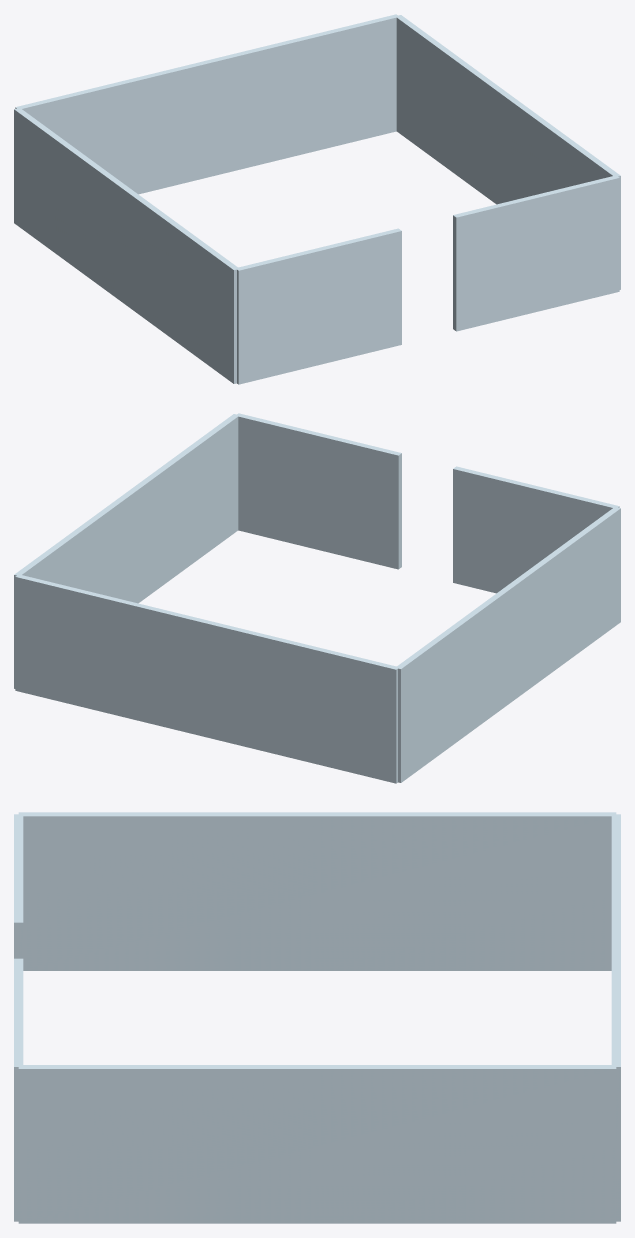
File: glass.glb
3 renders of one model, top to bottom at view 1: azimuth 30°, elevation 25°; view 2: azimuth 150°, elevation 25°; view 3: azimuth 270°, elevation 25°, orthographic. The views are drawn at different scales.
Parts seen in each view (by area): view 1: glass; view 2: glass; view 3: glass.
Part boxes in pixels (left/top/right/bottom): glass: left=14, top=14, right=620, bottom=384; glass: left=14, top=413, right=620, bottom=783; glass: left=14, top=812, right=620, bottom=1223.
Size of the model in its own units: 14.22 by 4 by 14.22.
1 material, 1 textured.
